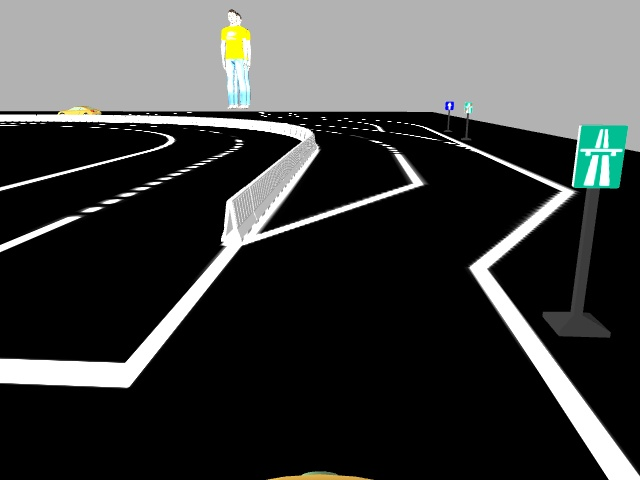HighwayEntrance: (573, 123, 624, 187)
